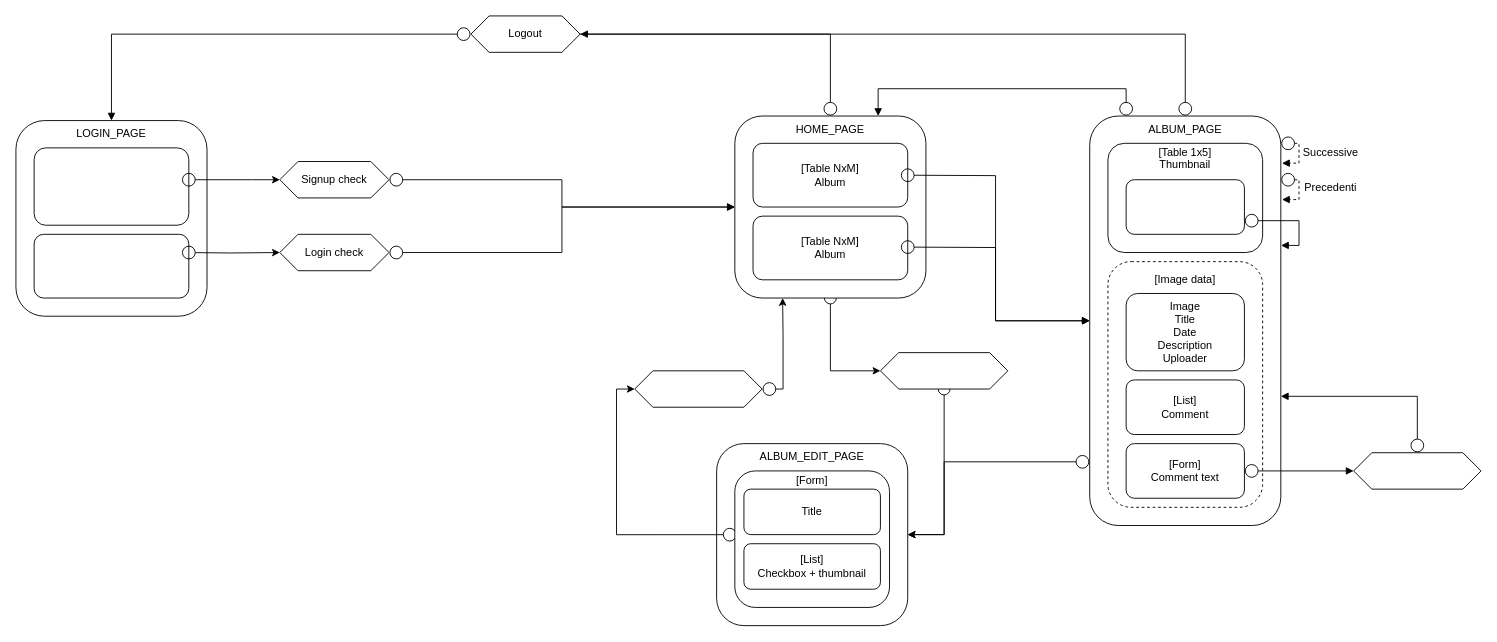
Some shapes in this 1497 by 642 pixel diagram are drawn without their labels. The shapes that lost their labels are listed below. From the top down, each one's centre as x and y in pixels, then its label:
the point at 111,186: [Signup form] username e-mail password repeat password
the point at 1184,206: Thumbnail Title
the point at 111,265: [Login form] username password
the point at 698,388: Edit album
the point at 944,370: Create empty album
the point at 1417,470: Create new comment
